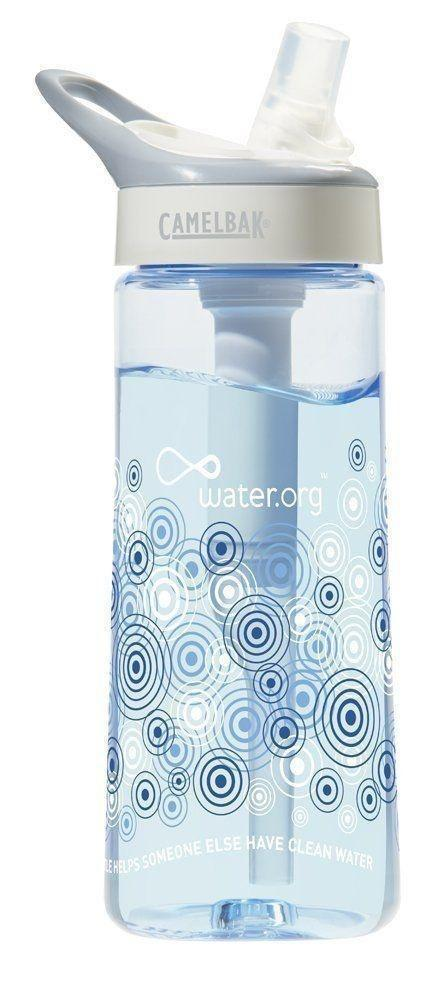gym bottle: (35, 24, 404, 950)
